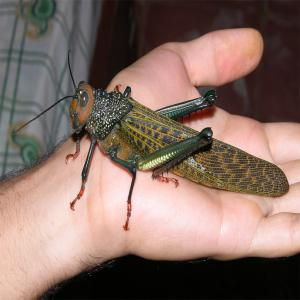locust: (48, 45, 291, 214)
